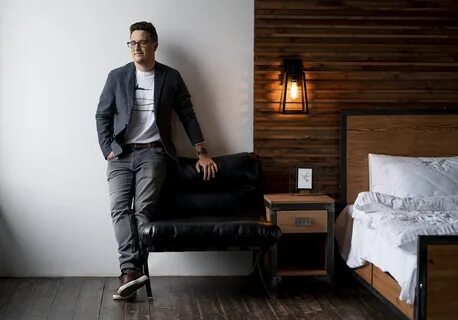awake: (95, 21, 199, 301)
